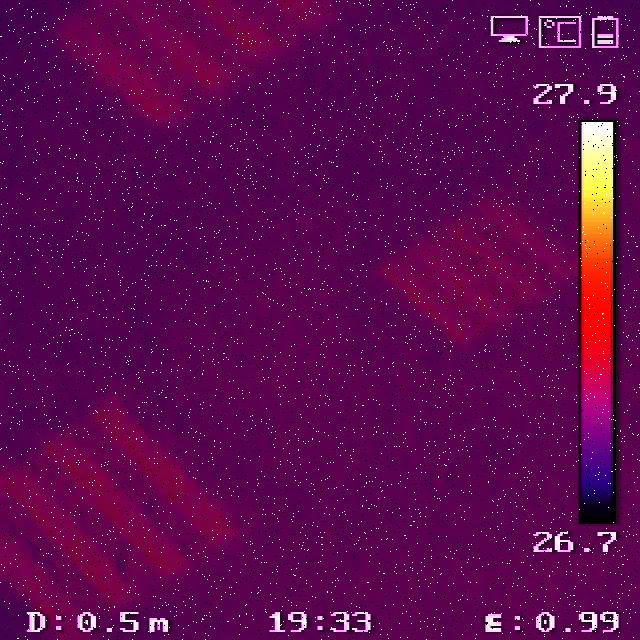threshold 4-bar target: (4, 409, 236, 618), (57, 3, 356, 114), (384, 197, 579, 347)
